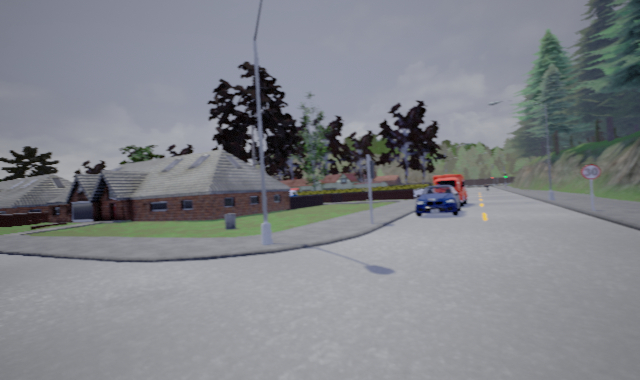traffic_sign: (581, 164, 601, 180)
vehicle: (413, 183, 462, 217), (434, 172, 468, 207)
